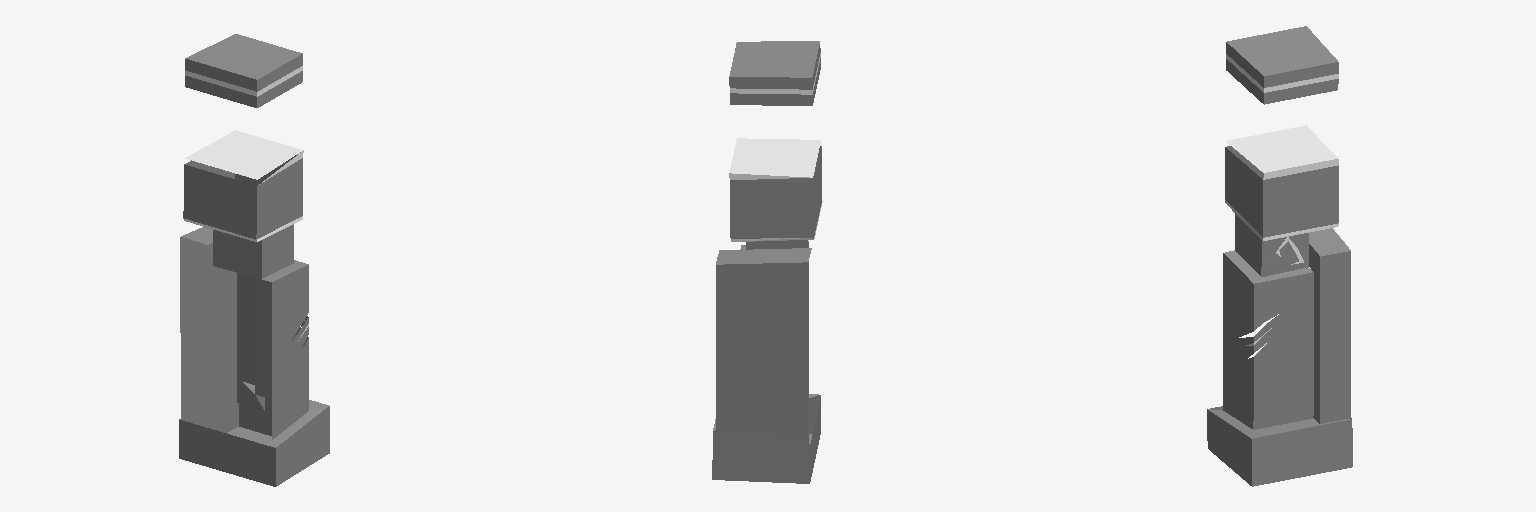
3 renders of one model, left to right at view 1: azimuth 30°, elevation 25°; view 2: azimuth 150°, elevation 25°; view 3: azimuth 270°, elevation 25°, orthographic.
Parts seen in each view (by area): view 1: Base; view 2: Base; view 3: Base.
Part boxes in pixels (x1,y1,x2,y2): Base: (179, 34, 329, 486); Base: (712, 41, 822, 483); Base: (1207, 26, 1352, 486).
Bounding box in the file's own units: 0.1836 × 0.5946 × 0.1944.